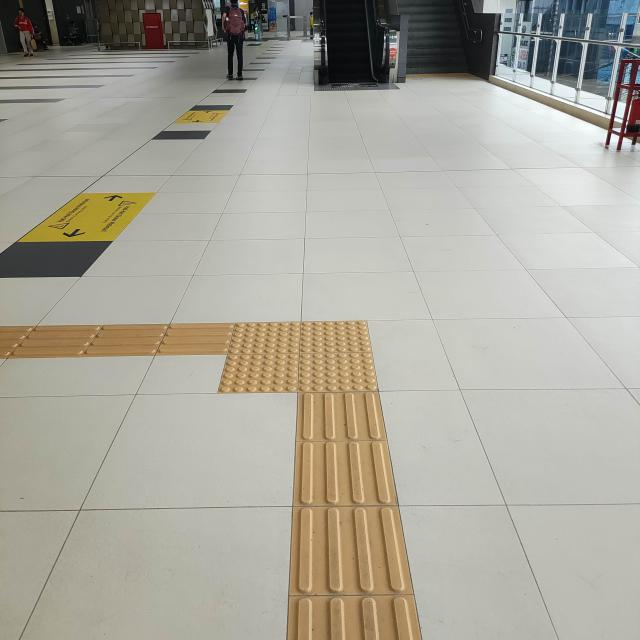kiri: (144, 266, 420, 450)
